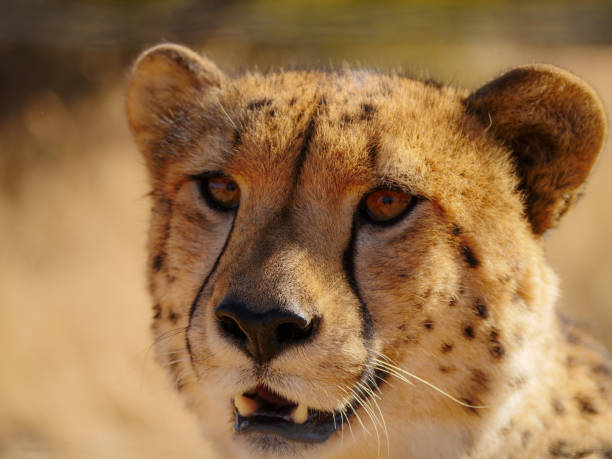cheetah: (80, 23, 612, 457)
